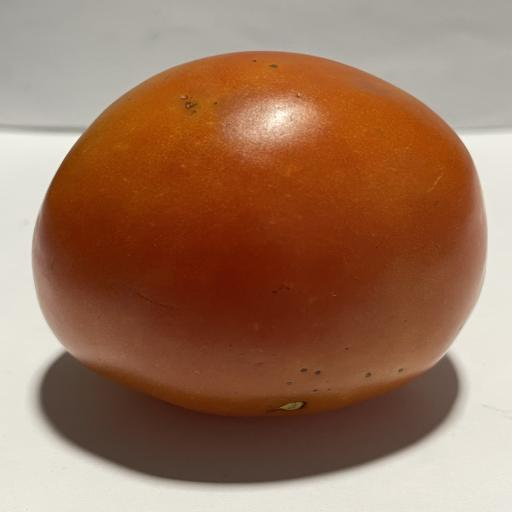ripe: (33, 51, 486, 419), (136, 292, 178, 309)
